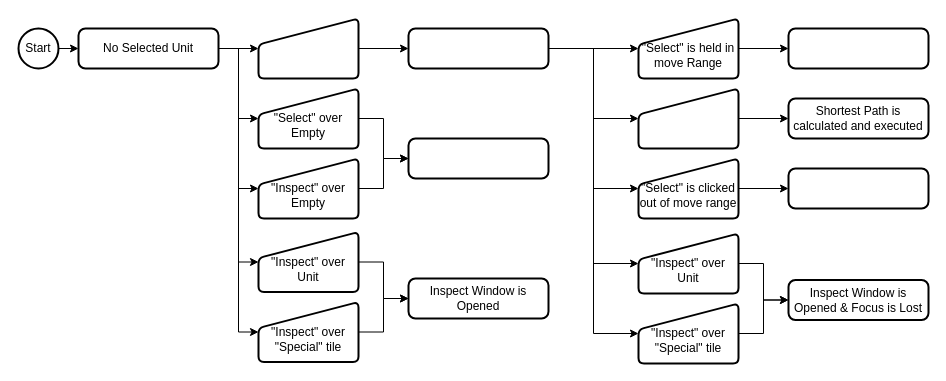
This 946x381 diagram has some shape labels left out. Here are the shapes that lost their labels. From the top down, the centre of each, then its label:
pixel 308 48: "Select" over unit
pixel 478 48: Unit Control Mode
pixel 858 48: Custom Move Path is Drawn and Executed on release
pixel 688 118: "Select" is clicked in move range
pixel 478 158: Nothing Happens
pixel 858 188: Unit is Deselected
